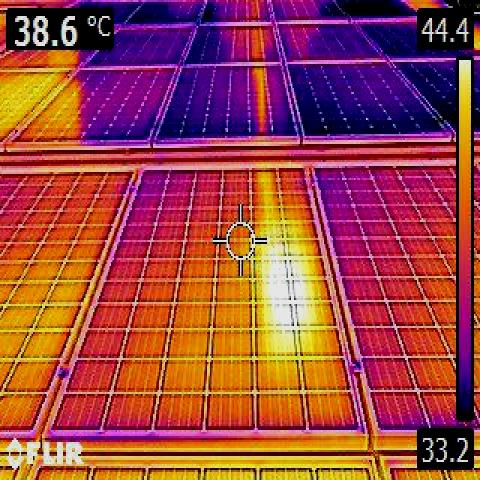fault: (262, 246, 314, 352)
